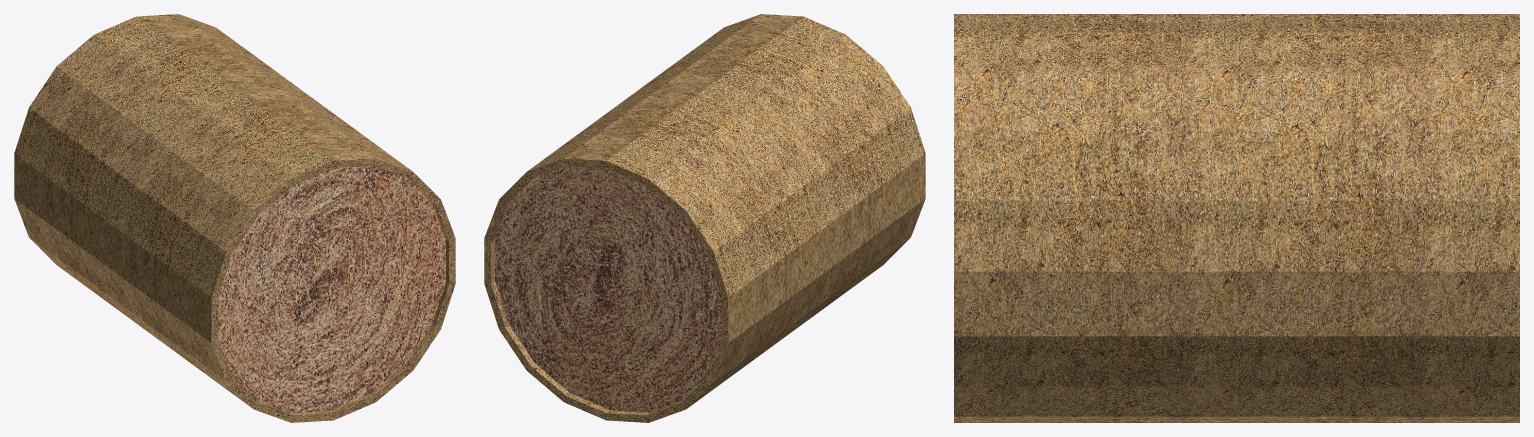
File: hayRoll.fbx
3 renders of one model, left to right at view 1: azimuth 30°, elevation 25°; view 2: azimuth 150°, elevation 25°; view 3: azimuth 270°, elevation 25°, orthographic. The views are drawn at different scales.
Parts seen in each view (by area): view 1: Cylinder.002, Cylinder.003; view 2: Cylinder.002, Cylinder.003; view 3: Cylinder.002.
Part boxes in pixels (box(x1,y1,x2,y2)): Cylinder.002: box(14, 14, 455, 422); Cylinder.003: box(218, 166, 445, 413); Cylinder.002: box(484, 14, 925, 422); Cylinder.003: box(495, 166, 721, 412); Cylinder.002: box(954, 14, 1519, 422).
Size of the model in its own units: 197 by 200 by 276.
